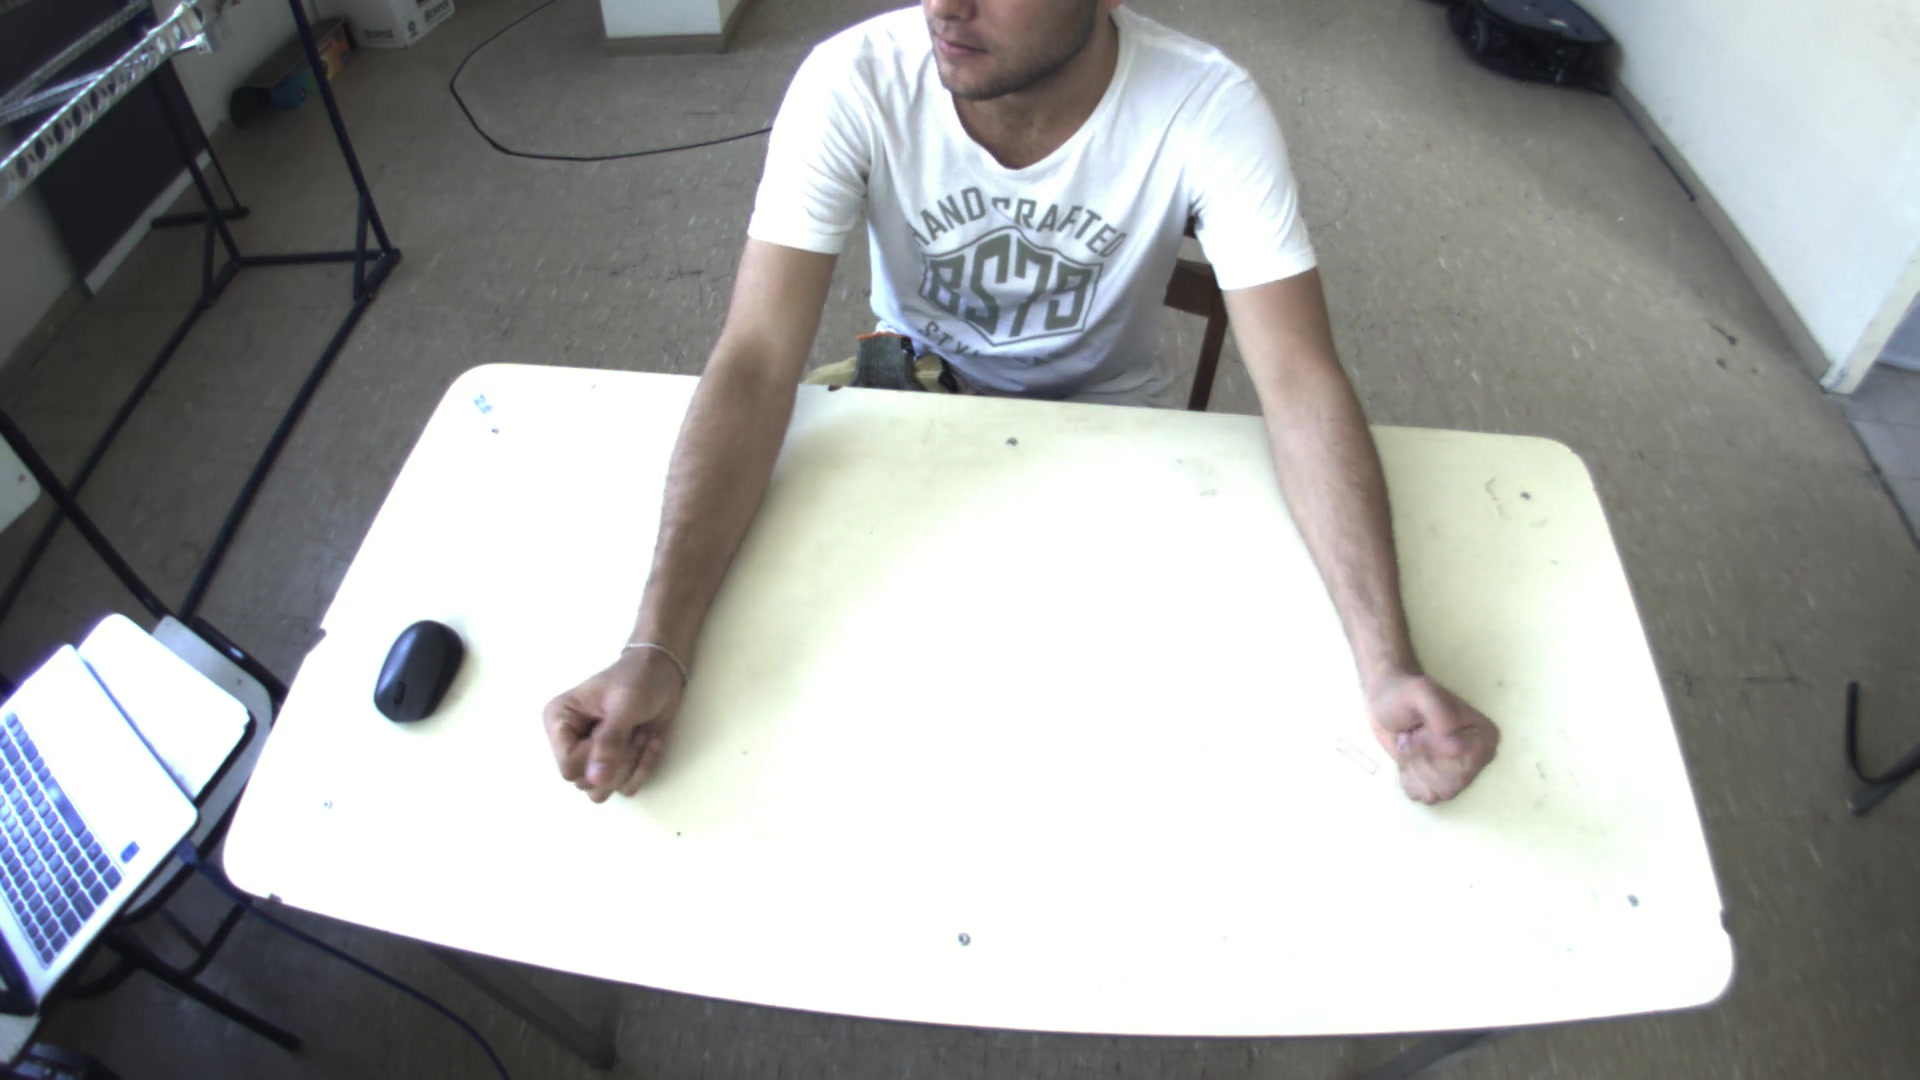hand: (535, 638, 705, 804), (1356, 666, 1516, 810)
